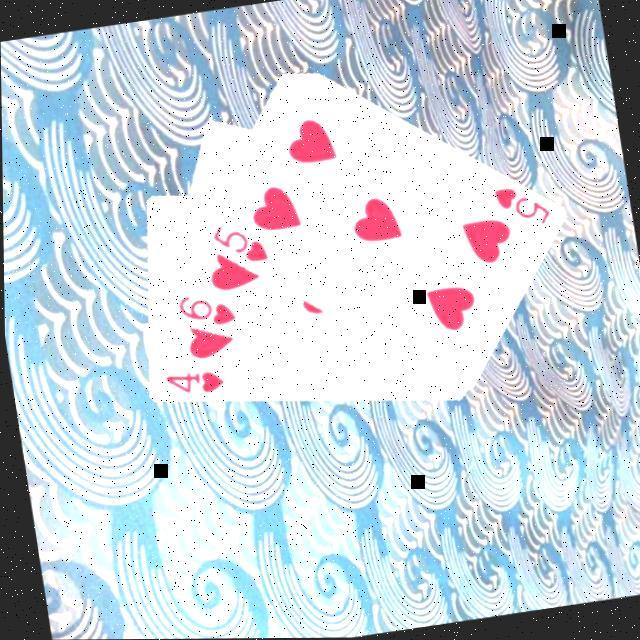4H: (160, 364, 227, 402)
5H: (488, 178, 555, 234), (207, 215, 272, 271)
6H: (173, 286, 239, 334)
